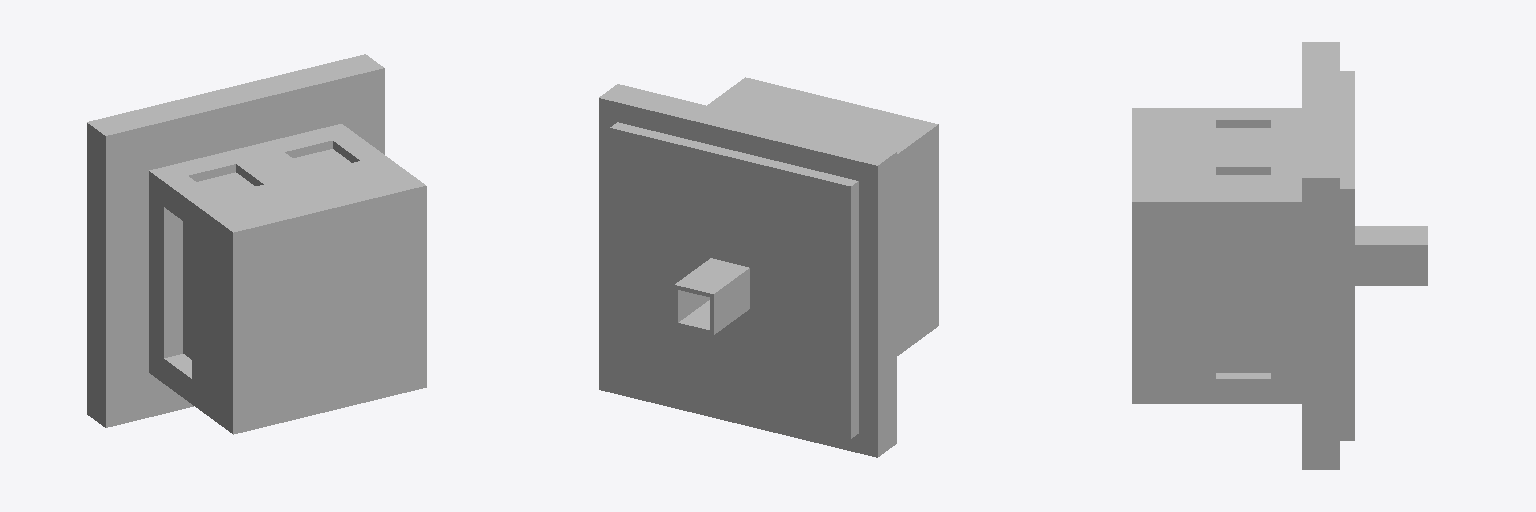
File: Muzeum_2.obj
The picture shows the model from 3 angles: view 1: azimuth 30°, elevation 25°; view 2: azimuth 150°, elevation 25°; view 3: azimuth 270°, elevation 25°; orthographic projection.
Parts seen in each view (by area): view 1: Cube.001; view 2: Cube.001; view 3: Cube.001.
Part boxes in pixels (x1,y1,x2,y2): Cube.001: (87,54,426,434); Cube.001: (599,77,938,457); Cube.001: (1132,42,1427,469).
Size of the model in its own units: 0.035 by 0.035 by 0.0321.